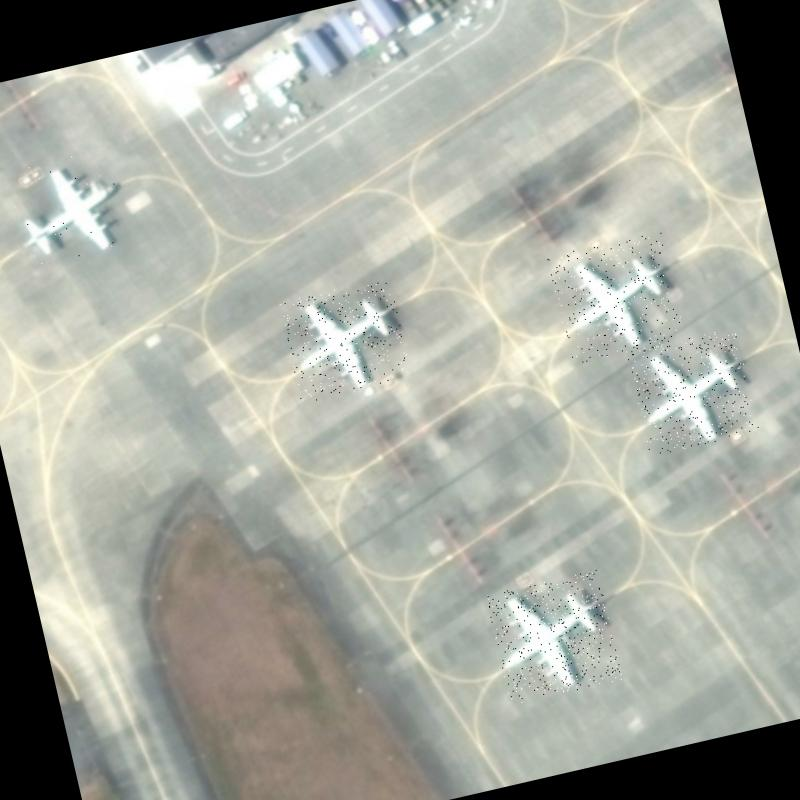A9: (546, 231, 686, 364), (486, 569, 622, 705), (277, 276, 413, 404), (626, 327, 759, 456), (2, 147, 131, 272)
